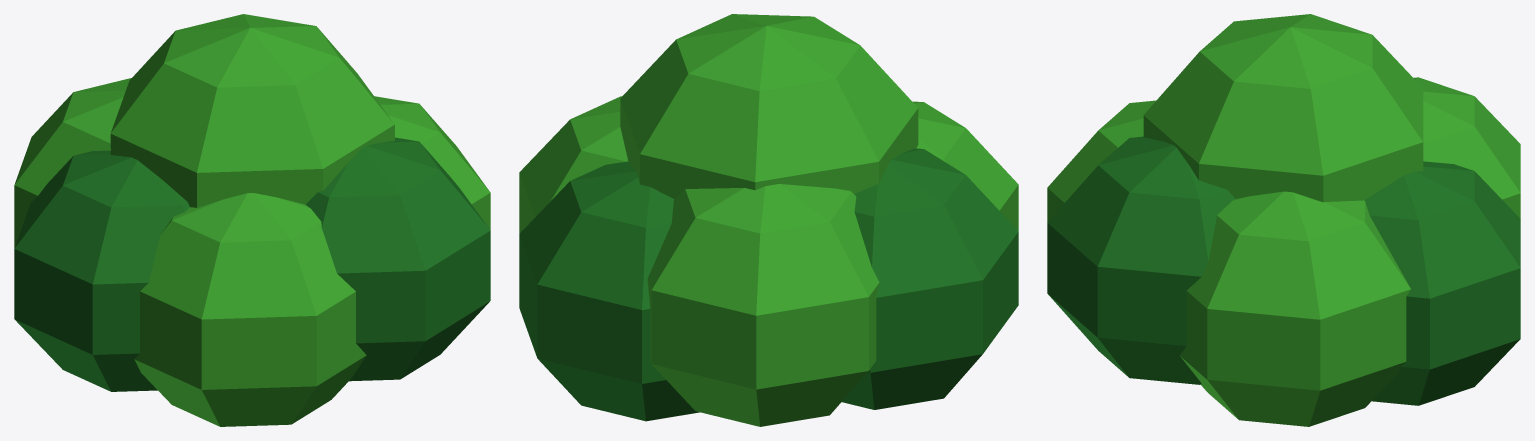
The model's file is env_kb_shrub.fbx.
3 renders of one model, left to right at view 1: azimuth 30°, elevation 25°; view 2: azimuth 150°, elevation 25°; view 3: azimuth 270°, elevation 25°, orthographic. The views are drawn at different scales.
Visible parts, largest first — view 1: env_kb_shrub_geo_LOD0; view 2: env_kb_shrub_geo_LOD0; view 3: env_kb_shrub_geo_LOD0.
Boxes of the visible parts, left/top/right/bottom form: env_kb_shrub_geo_LOD0: left=14, top=14, right=490, bottom=426; env_kb_shrub_geo_LOD0: left=519, top=14, right=1018, bottom=426; env_kb_shrub_geo_LOD0: left=1047, top=14, right=1520, bottom=426.
Size of what is drawn, in the model's own units: 1.83 by 1.33 by 1.68.
